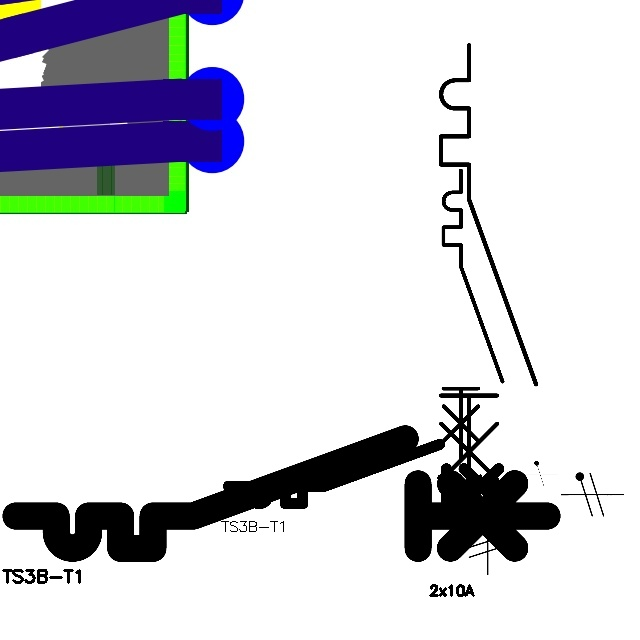interruptor_termomagnetico: (2, 425, 561, 562), (429, 33, 548, 520), (221, 437, 524, 511), (436, 163, 510, 466)
